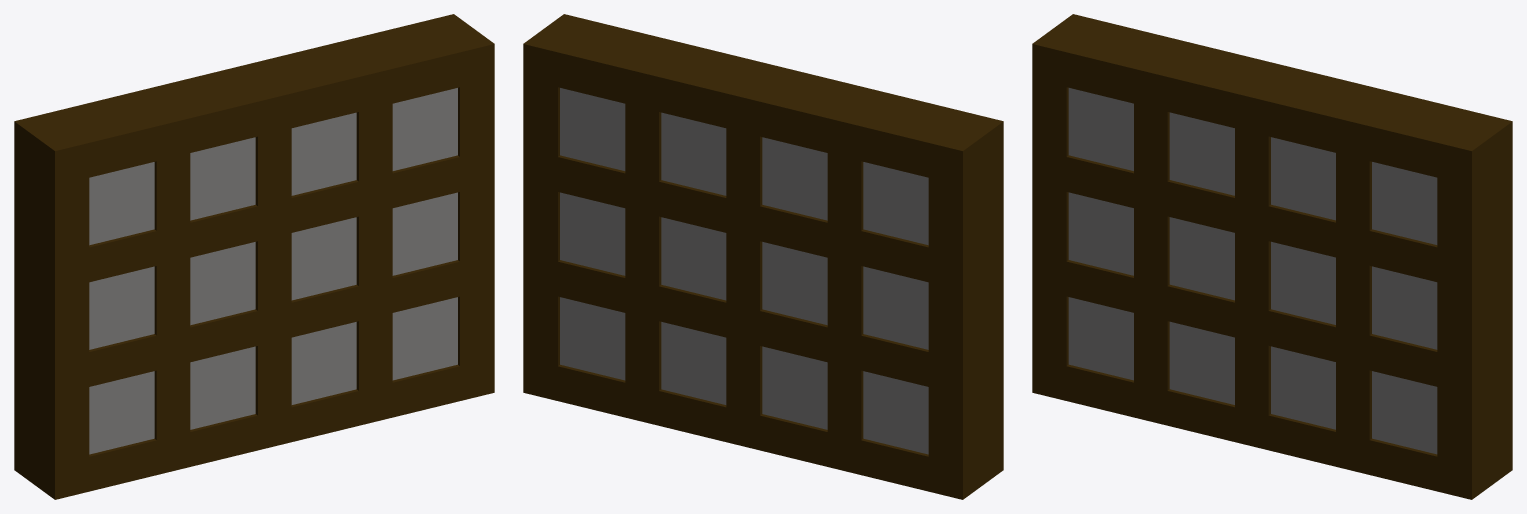
The model's file is Ventana 1.fbx.
3 views of the same model, side by side, from view 1: azimuth 30°, elevation 25°; view 2: azimuth 150°, elevation 25°; view 3: azimuth 330°, elevation 25° (orthographic).
Visible parts, largest first — view 1: polySurface51; view 2: polySurface51; view 3: polySurface51.
Boxes of the visible parts, x1=… form: polySurface51: x1=14, y1=14, x2=494, y2=499; polySurface51: x1=523, y1=14, x2=1003, y2=499; polySurface51: x1=1032, y1=14, x2=1512, y2=499.
Bounding box in the file's own units: 15.22 × 11.54 × 2.45.
